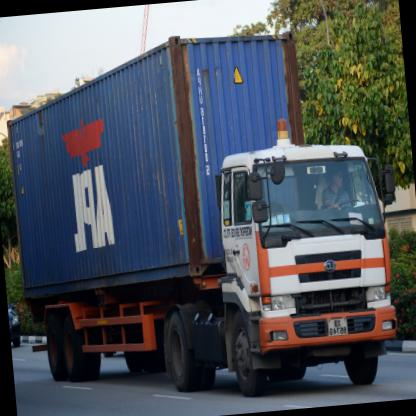truck: (208, 134, 405, 400)
